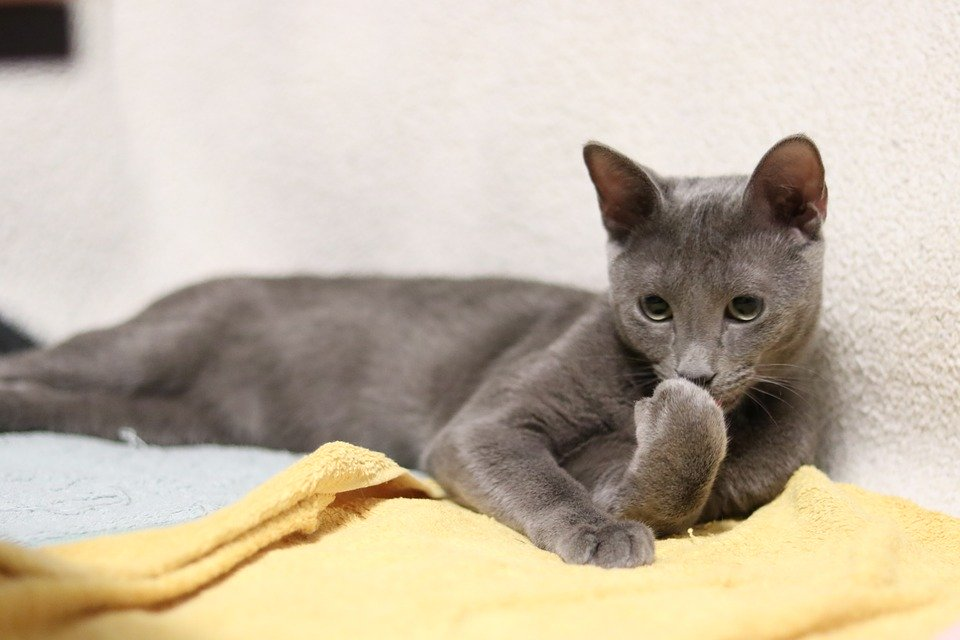cat: (1, 127, 834, 572)
cat-face: (582, 129, 839, 414)
